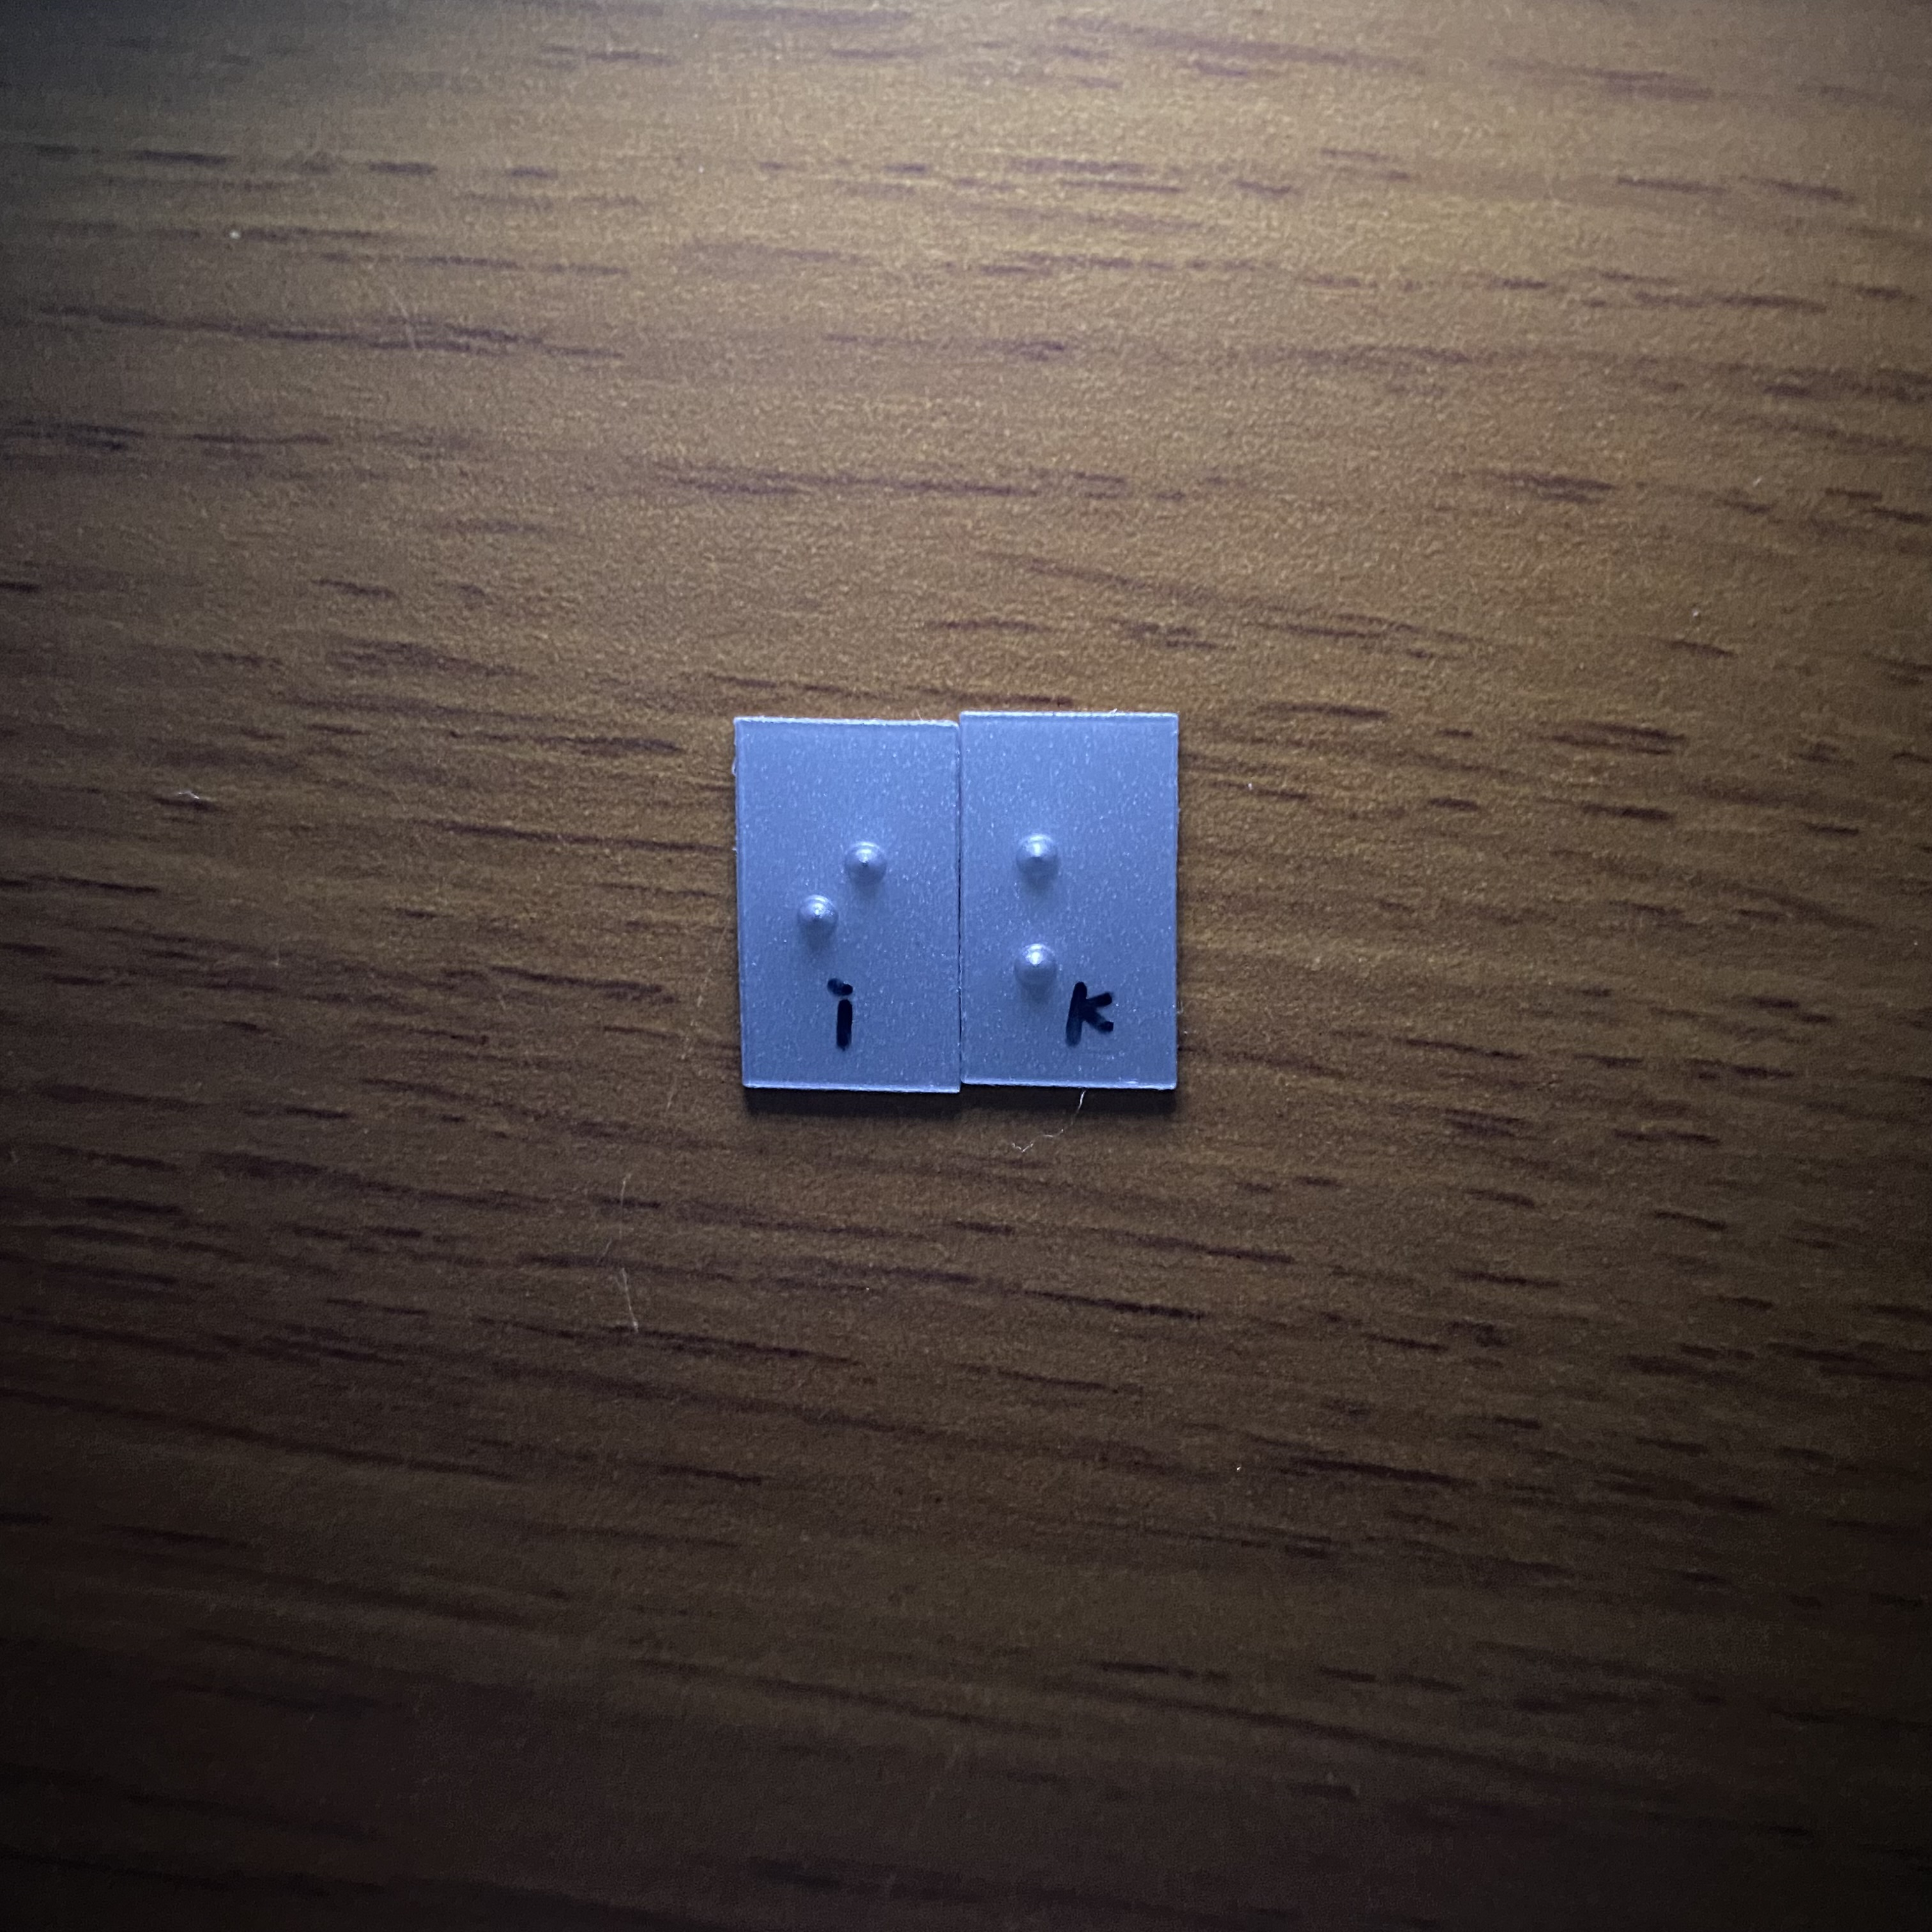i: (780, 819, 908, 1007)
k: (996, 815, 1131, 1013)
